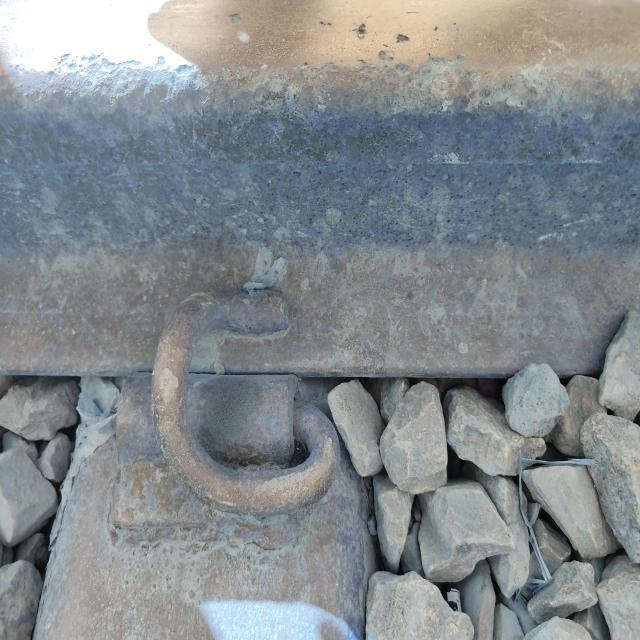Good Fasteners: (74, 290, 379, 638)
